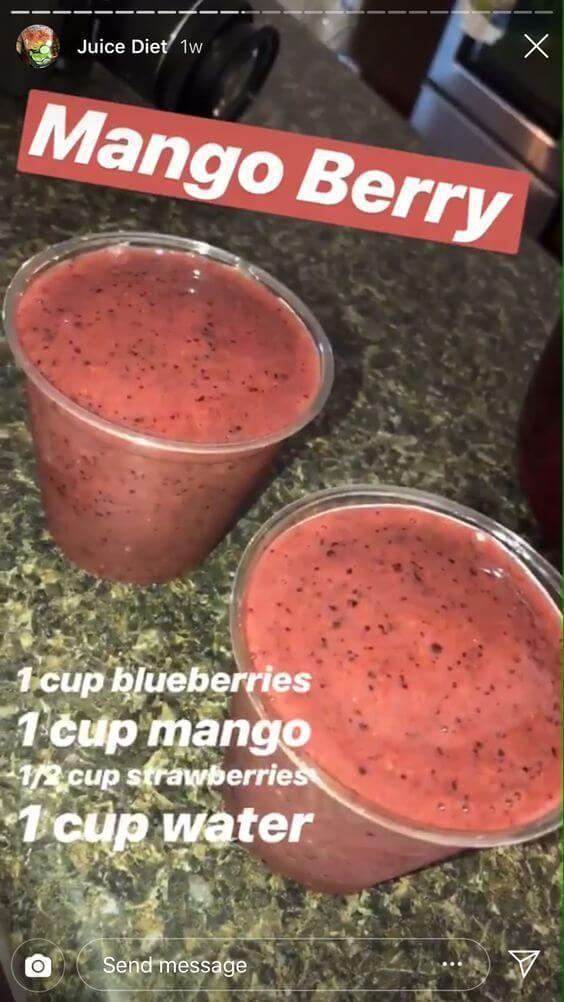cup-disposable: (231, 482, 563, 888), (2, 230, 336, 588)
